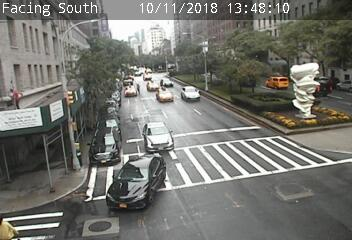car: (106, 154, 166, 209), (89, 128, 120, 163), (143, 122, 174, 154), (299, 79, 331, 98), (265, 75, 289, 90), (181, 86, 199, 101), (155, 88, 173, 102), (159, 78, 174, 88), (124, 85, 136, 97), (147, 81, 158, 91)
